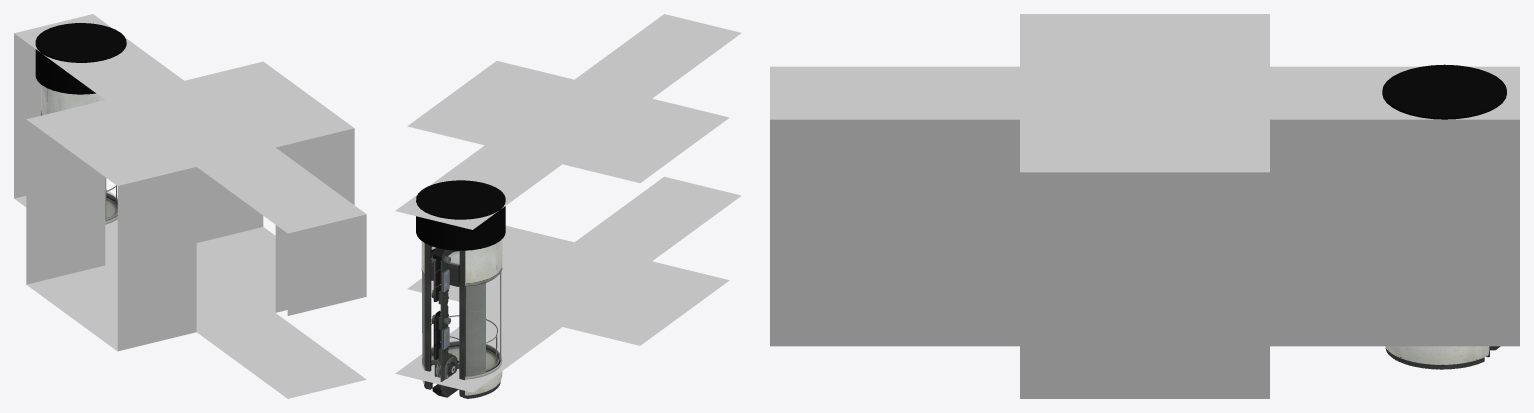
File: corridor.glb
3 renders of one model, left to right at view 1: azimuth 30°, elevation 25°; view 2: azimuth 150°, elevation 25°; view 3: azimuth 270°, elevation 25°, orthographic. The views are drawn at different scales.
Parts seen in each view (by area): view 1: ceiling, wall, Cylinder, elevatorOBJ; view 2: ceiling, elevatorOBJ, Cylinder; view 3: wall, ceiling, Cylinder, elevatorOBJ.
Boxes of the visible parts, x1,y1,x2,y2 form: ceiling: (14,14,366,398); wall: (14,33,366,351); Cylinder: (35,23,126,94); elevatorOBJ: (41,85,117,224); ceiling: (395,14,741,392); elevatorOBJ: (421,239,502,398); Cylinder: (416,180,505,250); wall: (770,119,1519,398); ceiling: (770,14,1519,172); Cylinder: (1382,64,1506,119); elevatorOBJ: (1385,346,1500,369).
Size of what is drawn, in the model's own units: 6 by 4.52 by 12.
5 materials, 4 textured.
